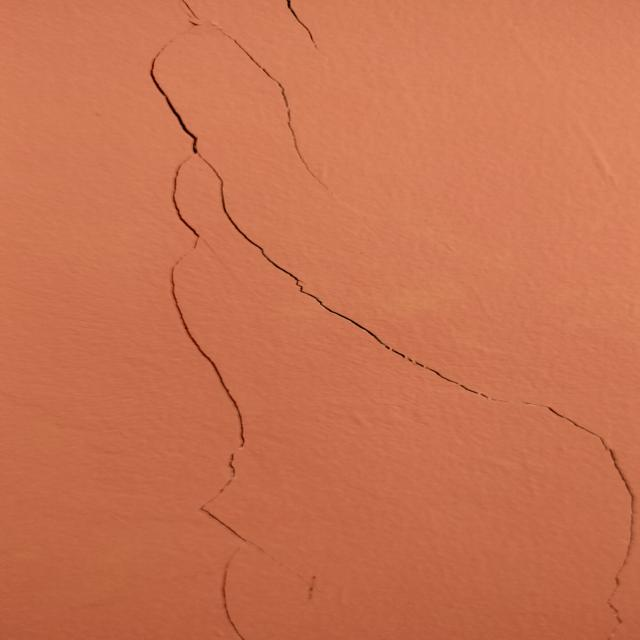Crack: (132, 3, 640, 640)
